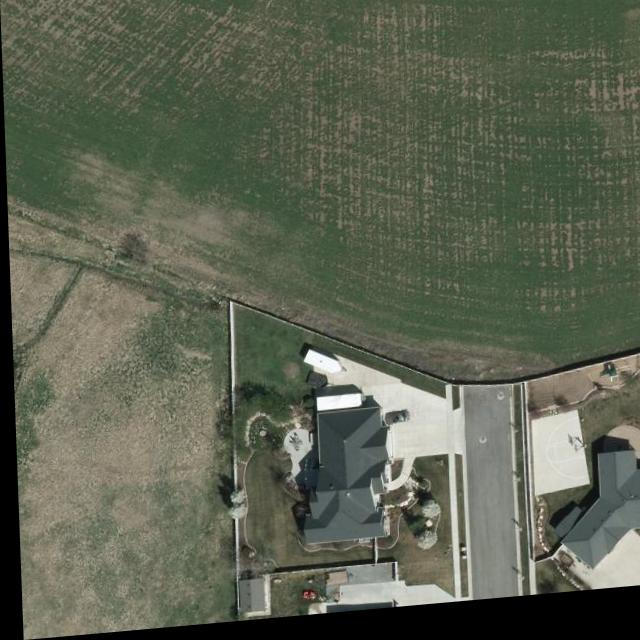vehicle: (381, 417, 407, 432)
